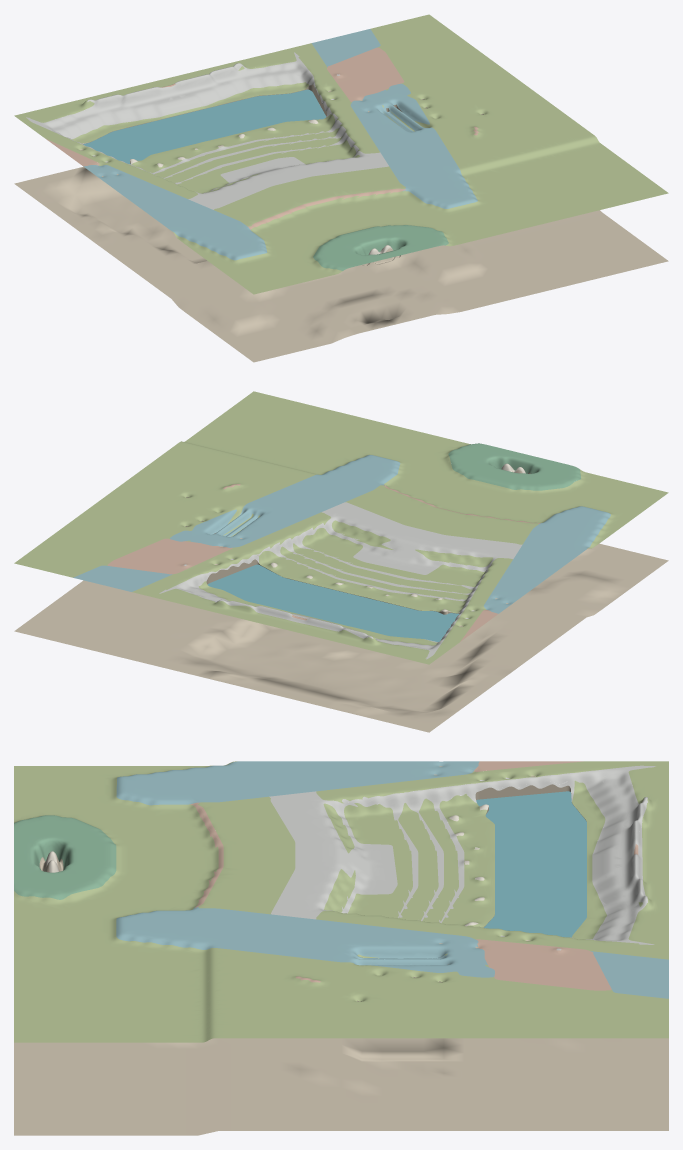
3 views of the same model, one above another, from view 1: azimuth 30°, elevation 25°; view 2: azimuth 150°, elevation 25°; view 3: azimuth 270°, elevation 25° (orthographic). The views are drawn at different scales.
Visible parts, largest first — view 1: s_-1_5__grass, s_-1_5__soil, s_-1_5__blue_paving, s_-1_5__stone_paving, s_-1_5__water, s_-1_5__green_court, s_-1_5__brick_paving; view 2: s_-1_5__grass, s_-1_5__soil, s_-1_5__blue_paving, s_-1_5__stone_paving, s_-1_5__water, s_-1_5__green_court, s_-1_5__brick_paving, s_-1_5__shore_bank; view 3: s_-1_5__grass, s_-1_5__soil, s_-1_5__blue_paving, s_-1_5__stone_paving, s_-1_5__water, s_-1_5__green_court, s_-1_5__brick_paving, s_-1_5__shore_bank.
Boxes of the visible parts, x1,y1,x2,y2 form: s_-1_5__grass: (14, 14, 668, 294); s_-1_5__soil: (14, 90, 668, 362); s_-1_5__blue_paving: (83, 29, 477, 260); s_-1_5__stone_paving: (26, 52, 388, 209); s_-1_5__water: (83, 89, 326, 164); s_-1_5__green_court: (313, 225, 448, 270); s_-1_5__brick_paving: (45, 47, 478, 229); s_-1_5__grass: (14, 391, 668, 664); s_-1_5__soil: (14, 470, 668, 732); s_-1_5__blue_paving: (73, 455, 610, 613); s_-1_5__stone_paving: (159, 502, 522, 659); s_-1_5__water: (207, 564, 459, 641); s_-1_5__green_court: (448, 443, 580, 490); s_-1_5__brick_paving: (107, 484, 540, 641); s_-1_5__shore_bank: (185, 497, 459, 614); s_-1_5__grass: (14, 761, 668, 1042); s_-1_5__soil: (14, 766, 668, 1135); s_-1_5__blue_paving: (116, 761, 668, 998); s_-1_5__stone_paving: (269, 765, 655, 950); s_-1_5__water: (476, 791, 586, 937); s_-1_5__green_court: (14, 815, 116, 899); s_-1_5__brick_paving: (190, 761, 638, 990); s_-1_5__shore_bank: (357, 784, 586, 1001).
Size of the model in its own units: 128 by 25.17 by 128.
